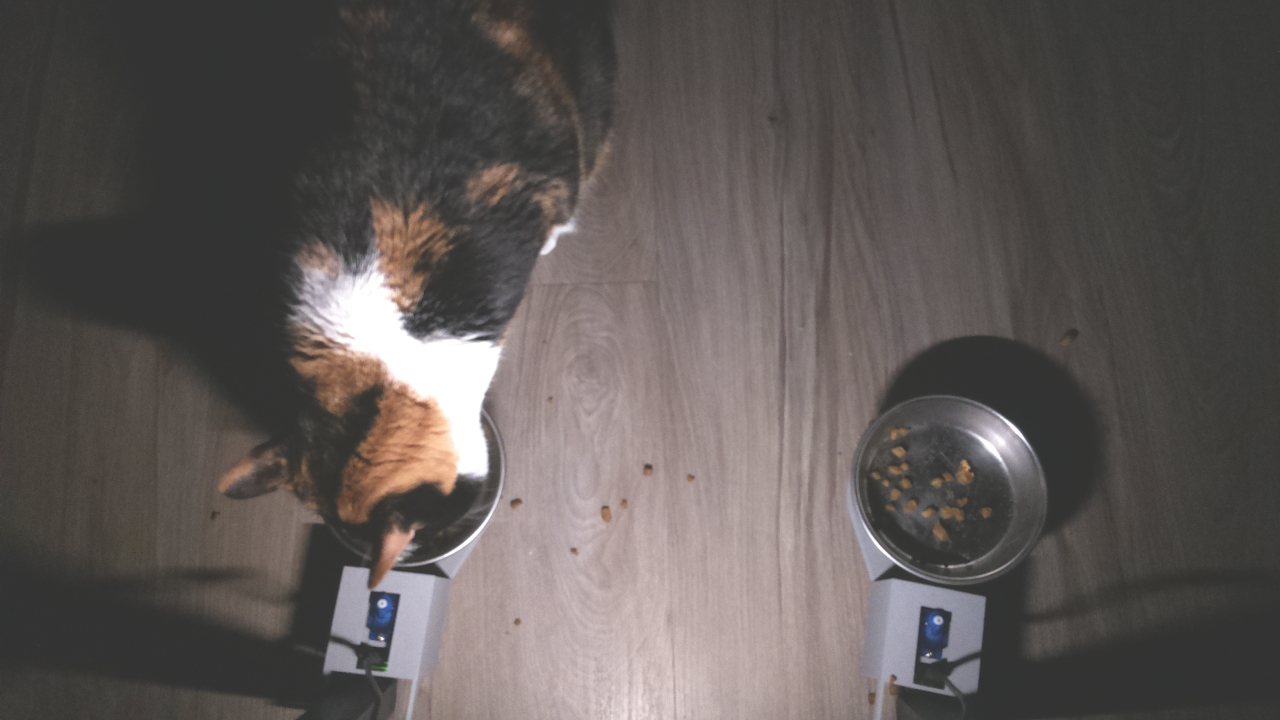bella_eating: (202, 318, 525, 587)
open_bowl: (851, 391, 1056, 590)
